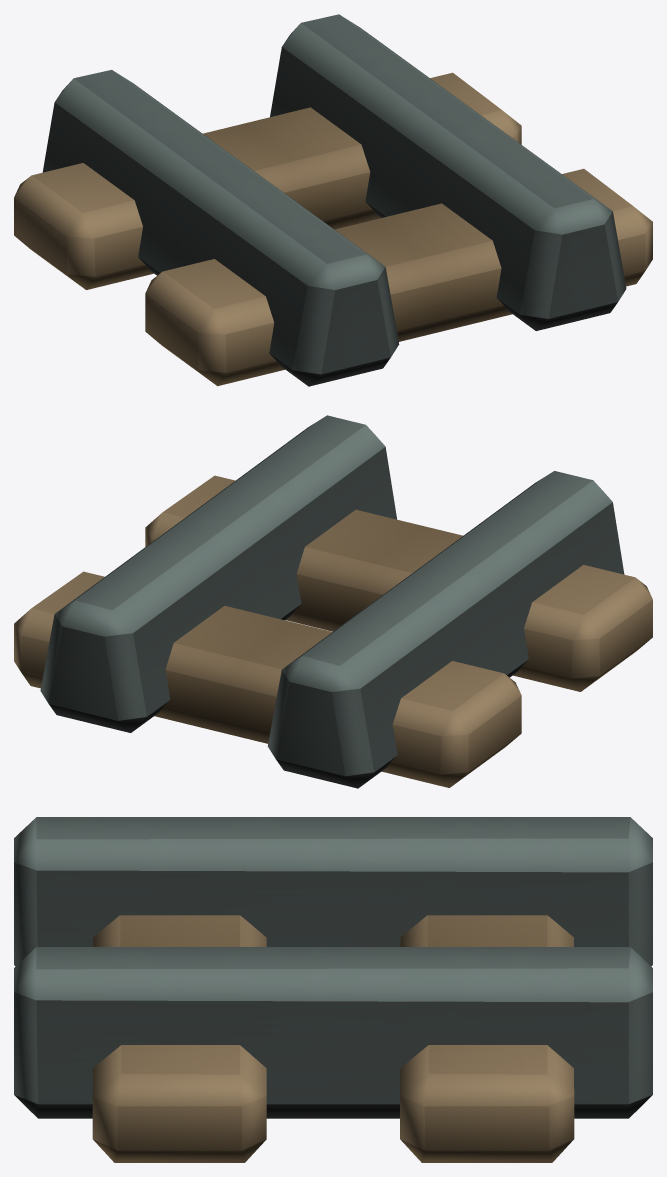
The model's file is orc_mine_rail_piece.fbx.
3 views of the same model, one above another, from view 1: azimuth 30°, elevation 25°; view 2: azimuth 150°, elevation 25°; view 3: azimuth 270°, elevation 25° (orthographic). The views are drawn at different scales.
Visible parts, largest first — view 1: orc_mine_rail_piece; view 2: orc_mine_rail_piece; view 3: orc_mine_rail_piece.
Part boxes in pixels (bbox=[...]): orc_mine_rail_piece: bbox=[14, 14, 652, 386]; orc_mine_rail_piece: bbox=[14, 415, 652, 788]; orc_mine_rail_piece: bbox=[14, 817, 652, 1162].
Bounding box in the file's own units: 159 × 42.68 × 165.
